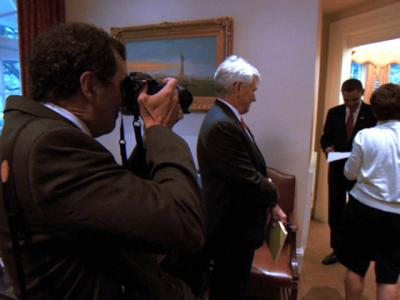person: (2, 23, 206, 299)
